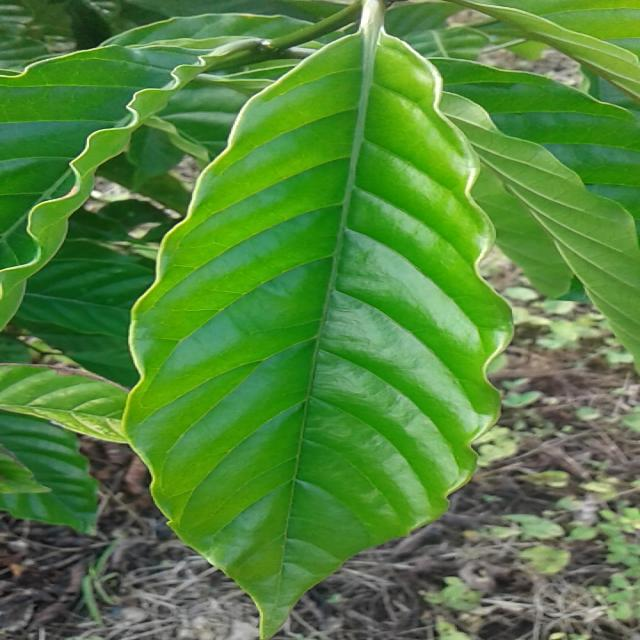Sanas: (122, 0, 514, 640)
